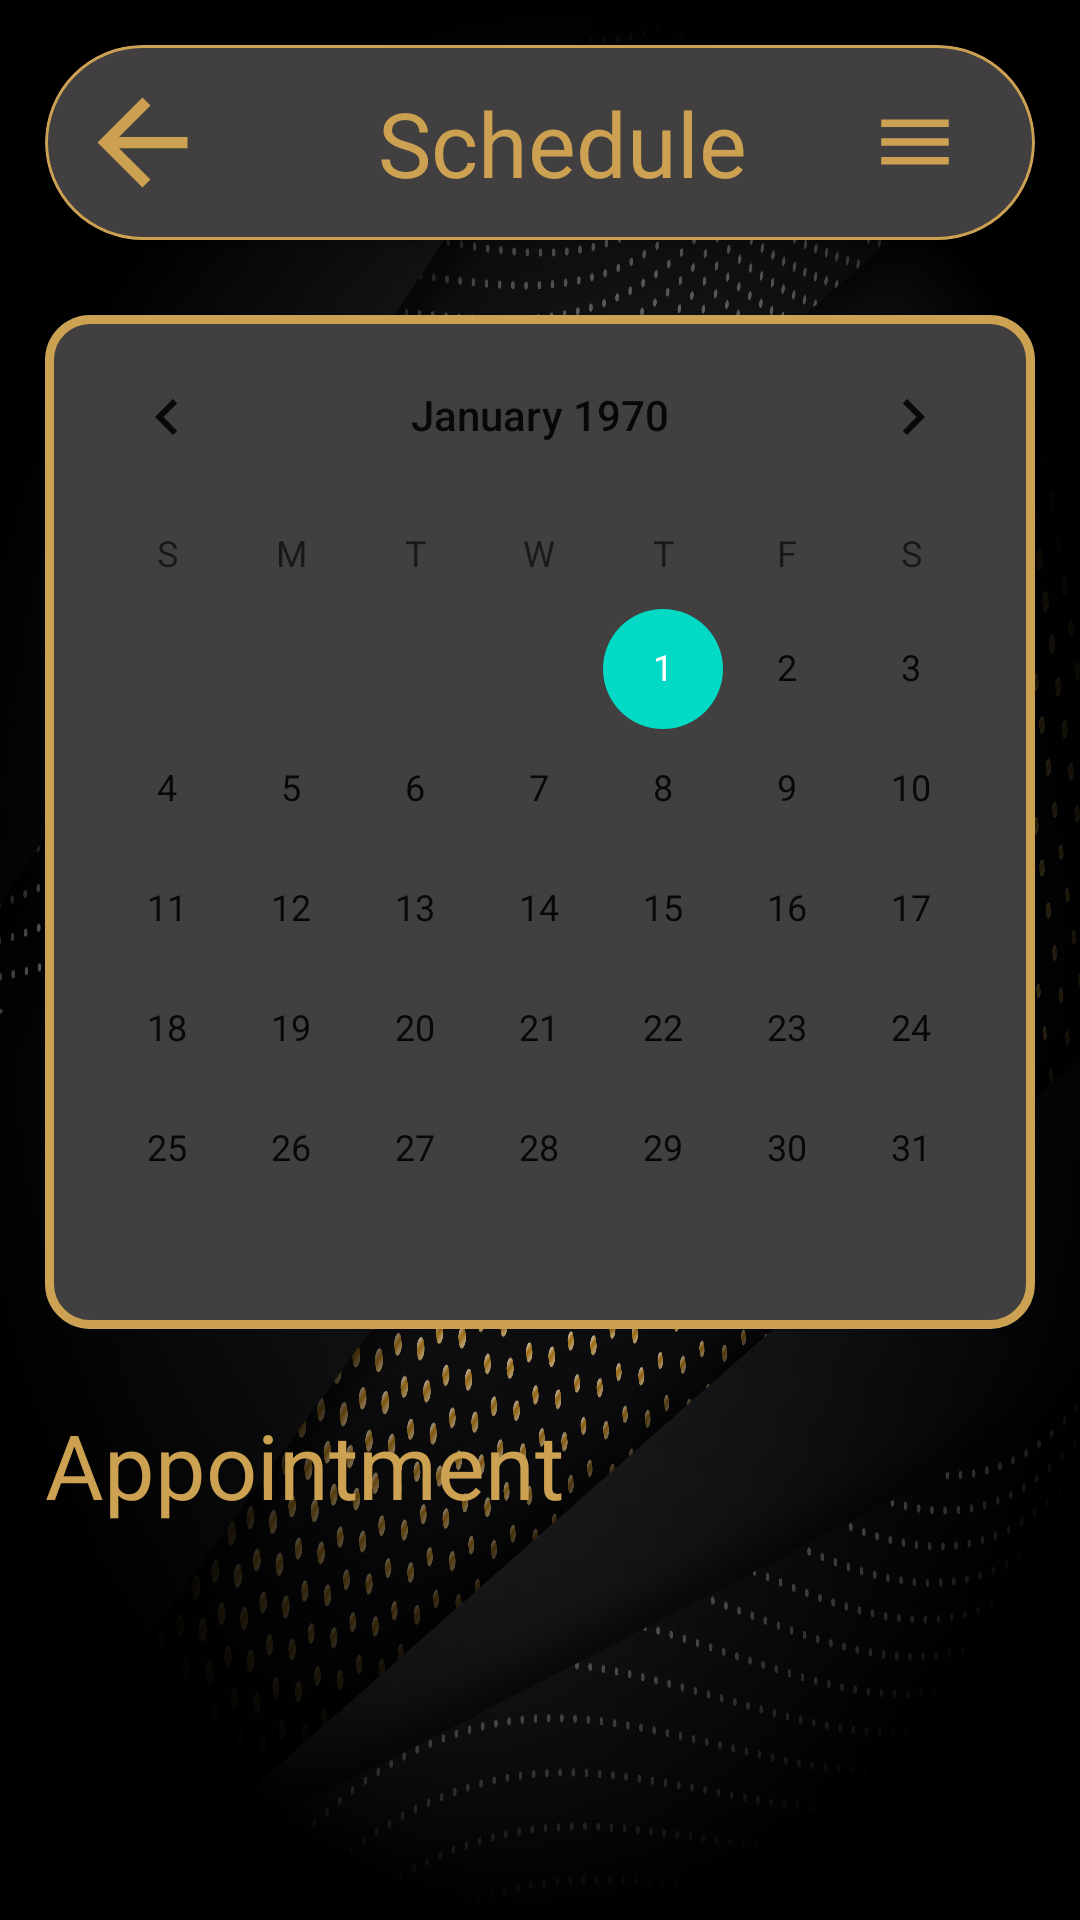

Screen size 1080×1920. Icon name, then its box in pixels as (x1, y1, x2, y2):
arrow back: (97, 97, 188, 188)
menu: (881, 119, 949, 165)
